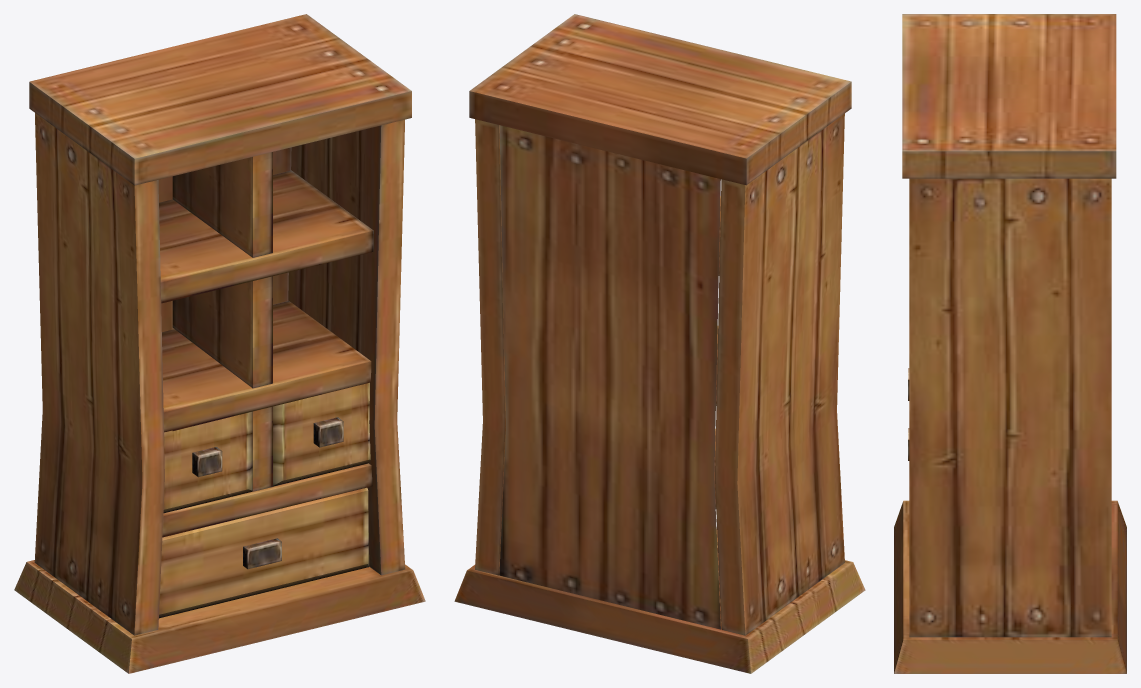
The model's file is SM_cupboard_01.gltf.
3 renders of one model, left to right at view 1: azimuth 30°, elevation 25°; view 2: azimuth 150°, elevation 25°; view 3: azimuth 270°, elevation 25°, orthographic.
Visible parts, largest first — view 1: SM_cupboard_01; view 2: SM_cupboard_01; view 3: SM_cupboard_01.
Boxes of the visible parts, <box> form: SM_cupboard_01: <box>14,14,425,673</box>; SM_cupboard_01: <box>454,14,865,673</box>; SM_cupboard_01: <box>894,14,1126,673</box>.
Bounding box in the file's own units: 0.9993 × 1.64 × 0.6677.
1 material, 1 textured.
